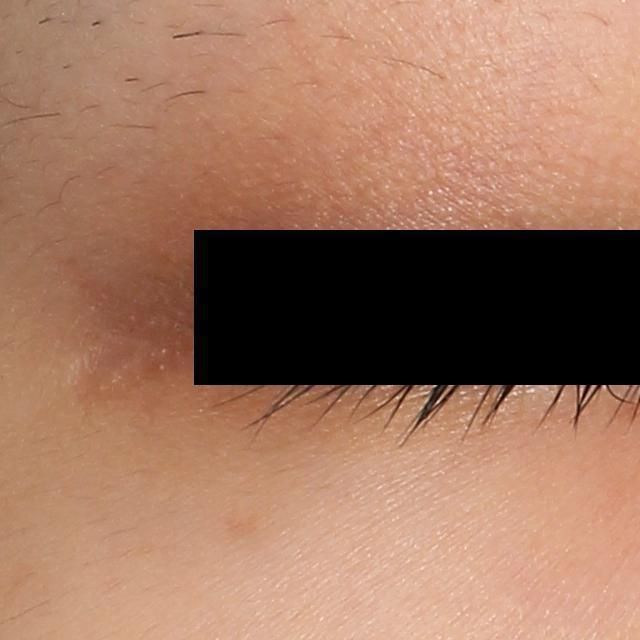melasma: (214, 502, 276, 545)
